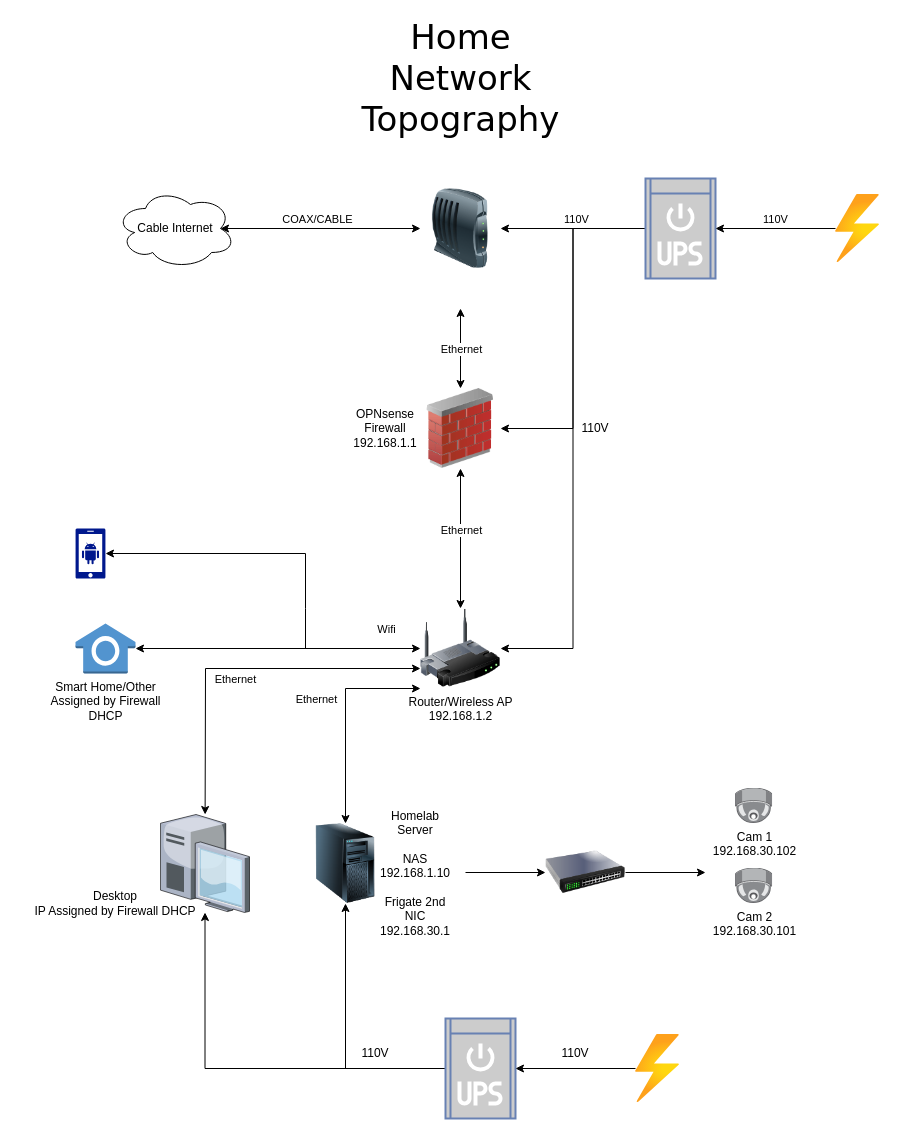
This 897x1136 diagram has some shape labels left out. Here are the shapes that lost their labels. From the top down, the box of each, then its label:
(420, 188, 500, 268): Modem/Gateway 192.168.100.1
(75, 528, 105, 578): Phone Assigned by Firewall DHCP
(545, 832, 625, 912): Unmanaged Switch
